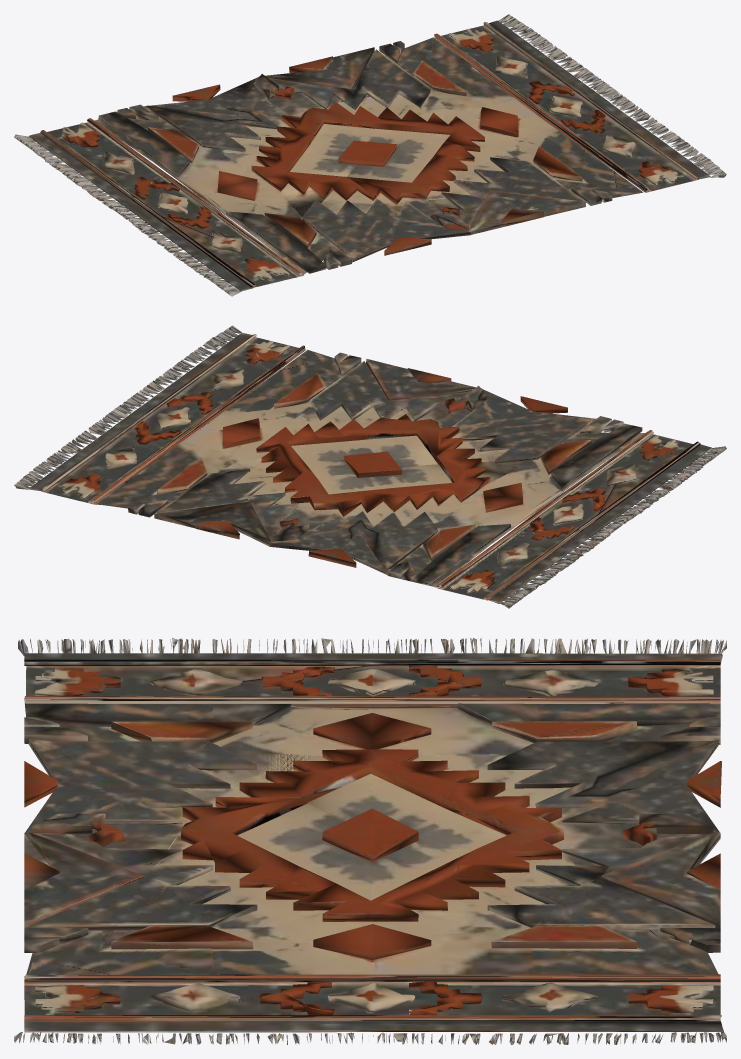
The model's file is mobile.glb.
3 views of the same model, one above another, from view 1: azimuth 30°, elevation 25°; view 2: azimuth 150°, elevation 25°; view 3: azimuth 270°, elevation 25° (orthographic). The views are drawn at different scales.
Parts seen in each view (by area): view 1: rug; view 2: rug; view 3: rug.
Part boxes in pixels (<box>): rug: <box>14,14,726,296</box>; rug: <box>14,325,726,608</box>; rug: <box>14,638,726,1044</box>.
Bounding box in the file's own units: 2 × 0.0381 × 1.5.
1 material, 1 textured.
